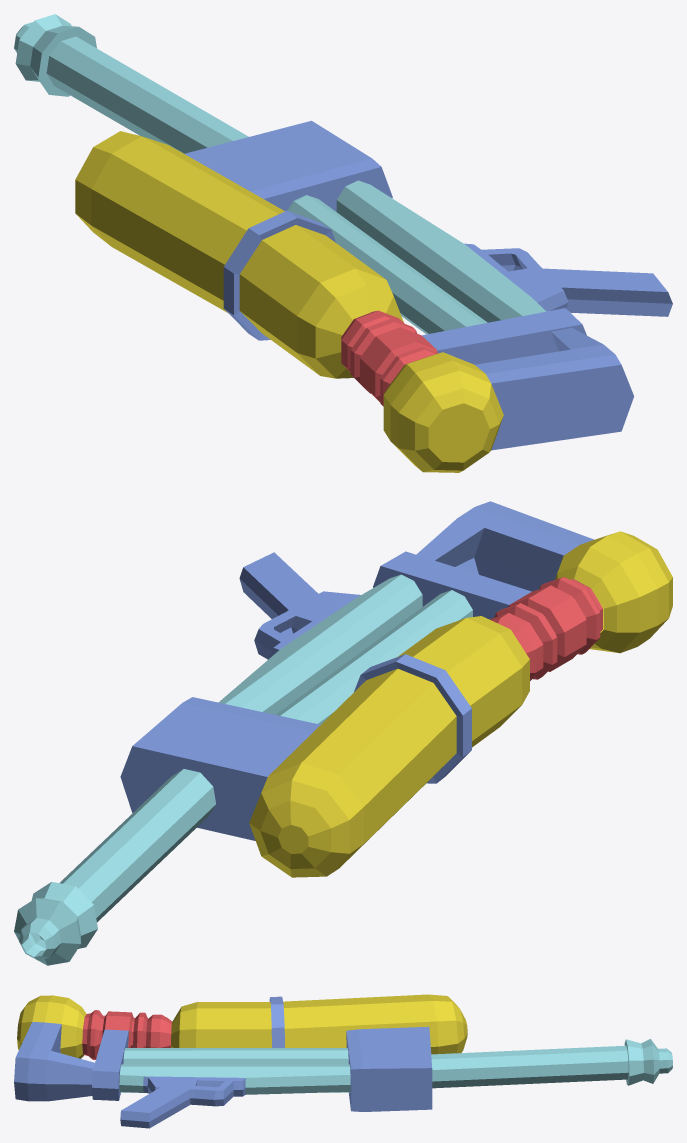
The model's file is WaterGun.fbx.
The picture shows the model from 3 angles, top to bottom: view 1: azimuth 30°, elevation 25°; view 2: azimuth 150°, elevation 25°; view 3: azimuth 270°, elevation 25°; orthographic projection. The views are drawn at different scales.
Parts seen in each view (by area): view 1: Cylinder, Cylinder.002, Cylinder.003, Cylinder.005, Cylinder.004, Cylinder.007, Cylinder.001, Cylinder.006; view 2: Cylinder, Cylinder.003, Cylinder.004, Cylinder.005, Cylinder.002, Cylinder.001, Cylinder.007, Cylinder.006; view 3: Cylinder, Cylinder.003, Cylinder.005, Cylinder.004, Cylinder.002, Cylinder.007, Cylinder.001, Cylinder.006.
Part boxes in pixels (left/top/right/bottom): Cylinder: left=75, top=131, right=503, bottom=472; Cylinder.002: left=422, top=308, right=634, bottom=450; Cylinder.003: left=287, top=180, right=546, bottom=334; Cylinder.005: left=14, top=14, right=248, bottom=153; Cylinder.004: left=184, top=120, right=392, bottom=211; Cylinder.007: left=464, top=243, right=672, bottom=316; Cylinder.001: left=341, top=310, right=438, bottom=406; Cylinder.006: left=223, top=210, right=336, bottom=340; Cylinder: left=249, top=531, right=672, bottom=877; Cylinder.003: left=218, top=574, right=472, bottom=724; Cylinder.004: left=120, top=697, right=320, bottom=840; Cylinder.005: left=14, top=769, right=215, bottom=965; Cylinder.002: left=373, top=501, right=593, bottom=619; Cylinder.001: left=490, top=577, right=602, bottom=680; Cylinder.007: left=239, top=552, right=360, bottom=659; Cylinder.006: left=354, top=654, right=471, bottom=783; Cylinder: left=17, top=994, right=467, bottom=1058; Cylinder.003: left=119, top=1048, right=350, bottom=1094; Cylinder.005: left=431, top=1039, right=672, bottom=1088; Cylinder.004: left=346, top=1026, right=432, bottom=1111; Cylinder.002: left=14, top=1022, right=128, bottom=1101; Cylinder.007: left=120, top=1076, right=245, bottom=1128; Cylinder.001: left=82, top=1010, right=172, bottom=1059; Cylinder.006: left=269, top=996, right=284, bottom=1047.
Bounding box in the file's own units: 674 × 223 × 1777.
